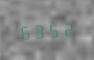five: (46, 20, 59, 39)
six: (18, 22, 31, 41)
three: (32, 21, 45, 40)
two: (60, 19, 73, 38)
